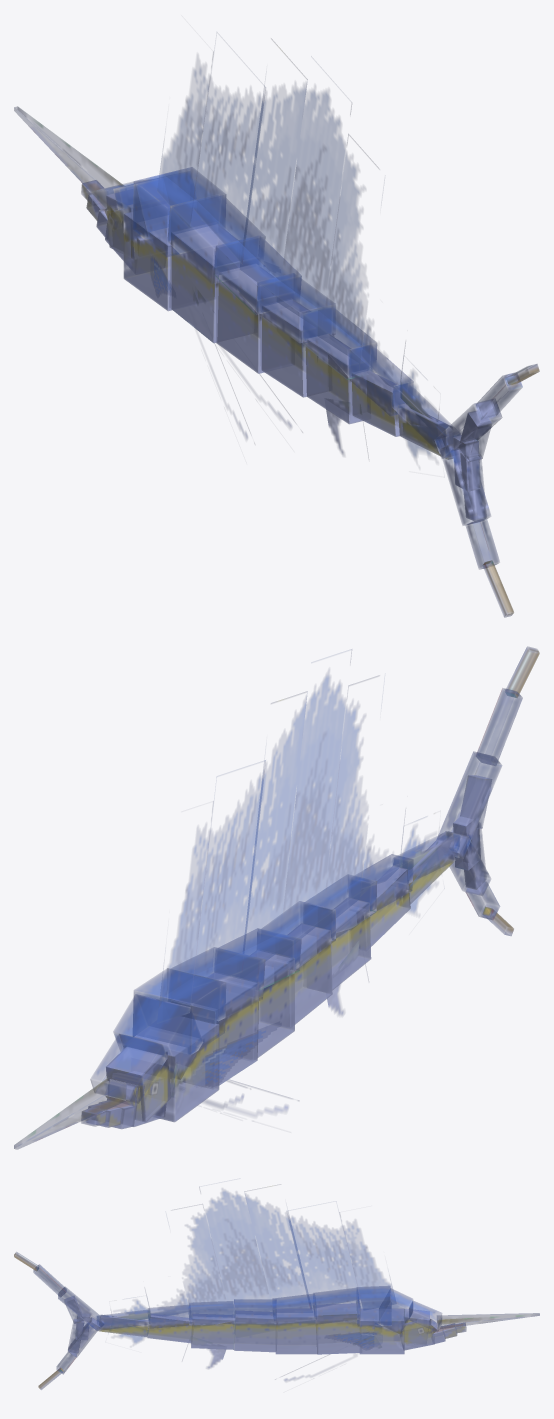
The model's file is Blue_Sailfish.glb.
The picture shows the model from 3 angles, top to bottom: view 1: azimuth 30°, elevation 25°; view 2: azimuth 150°, elevation 25°; view 3: azimuth 270°, elevation 25°; orthographic projection. The views are drawn at different scales.
Visible parts, largest first — view 1: unnamed (×33); view 2: unnamed (×38); view 3: unnamed (×35).
Boxes of the visible parts, <box> form: unnamed (×33): <box>14,38,522,569</box>; unnamed (×38): <box>14,646,539,1149</box>; unnamed (×35): <box>33,1184,539,1368</box>.
Bounding box in the file's own units: 0.4811 × 1.77 × 3.83.
Materials: 1 (1 with a texture image).
